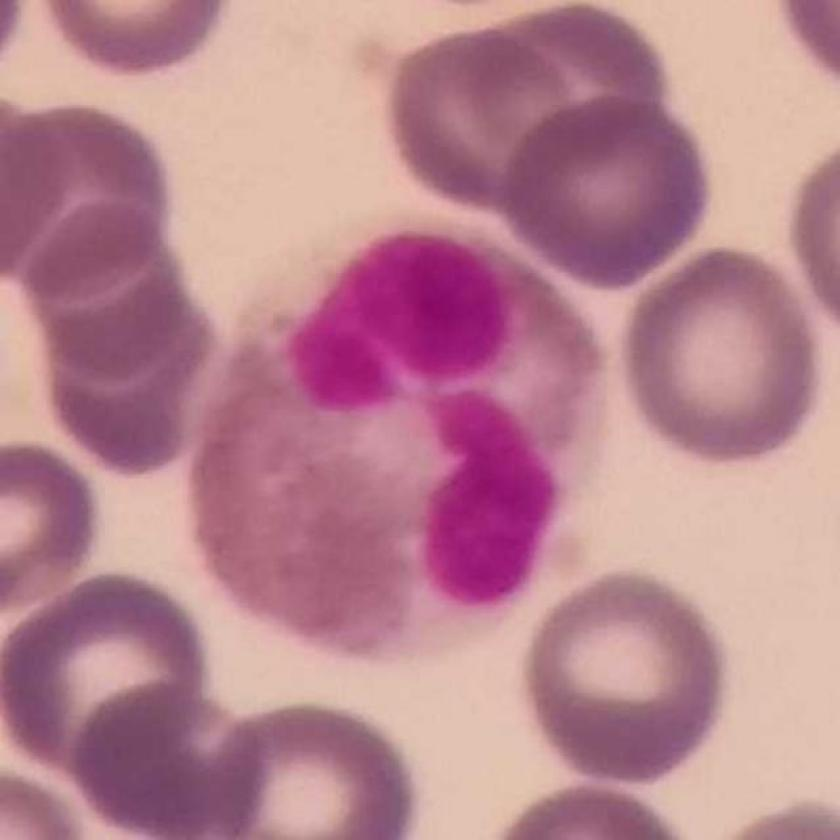eosinophil: (188, 215, 620, 669)
